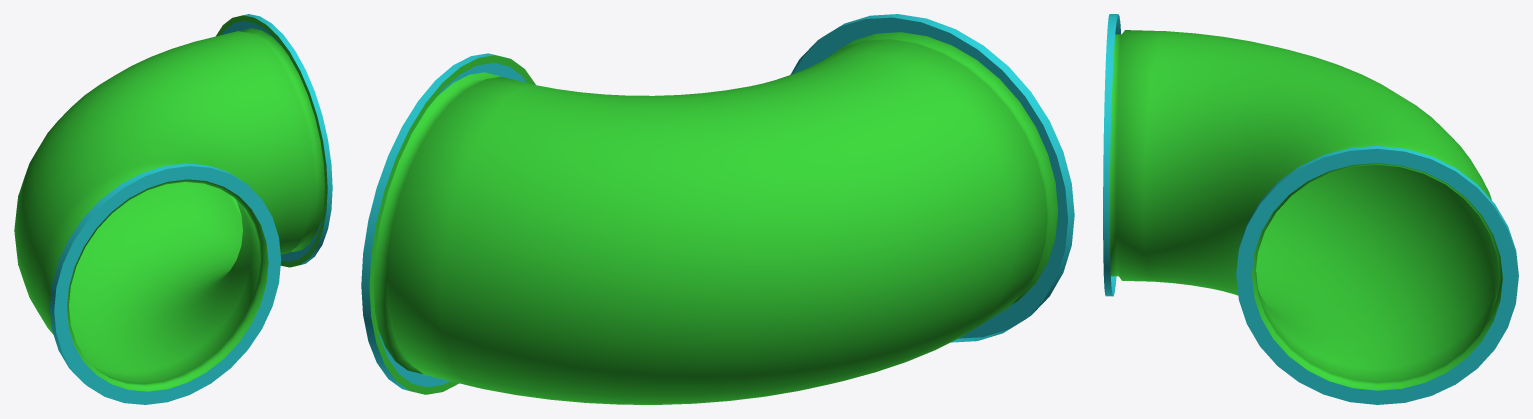
File: tubo_verde.fbx
The picture shows the model from 3 angles, left to right: view 1: azimuth 30°, elevation 25°; view 2: azimuth 150°, elevation 25°; view 3: azimuth 270°, elevation 25°; orthographic projection. The views are drawn at different scales.
Visible parts, largest first — view 1: tubo3.1; view 2: tubo3.1; view 3: tubo3.1.
Boxes of the visible parts, bbox=[...] form: tubo3.1: bbox=[14, 14, 332, 404]; tubo3.1: bbox=[361, 14, 1074, 404]; tubo3.1: bbox=[1103, 14, 1518, 404].
Bounding box in the file's own units: 648 × 422 × 621.
